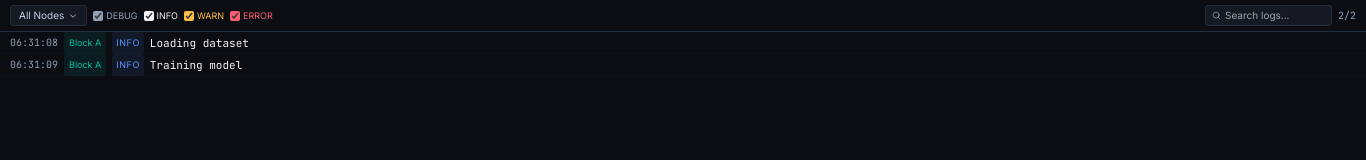
Test case: LogViewer › filters by text search
In the field with placeholder "Search logs...": (1275,16) top-left (1225, 8), bottom-right (1325, 23), type "dataset"
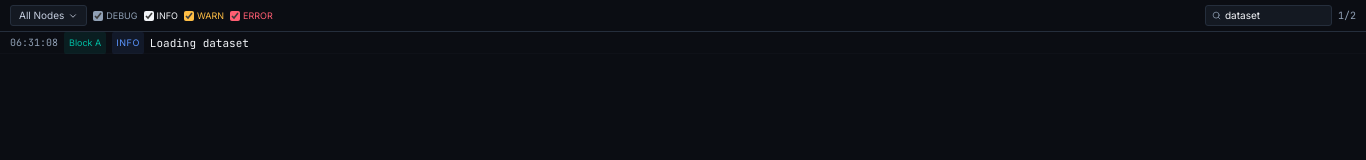
Expected: the text "Loading dataset" is shown, top-left (150, 36), bottom-right (249, 50)
Expected: the text "Training model" is gone
